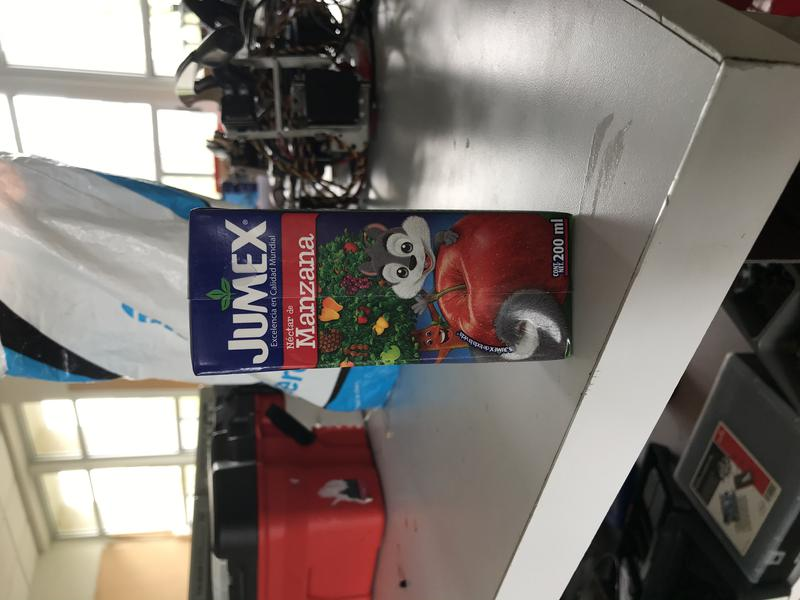jumex_cajita: (188, 206, 575, 376)
